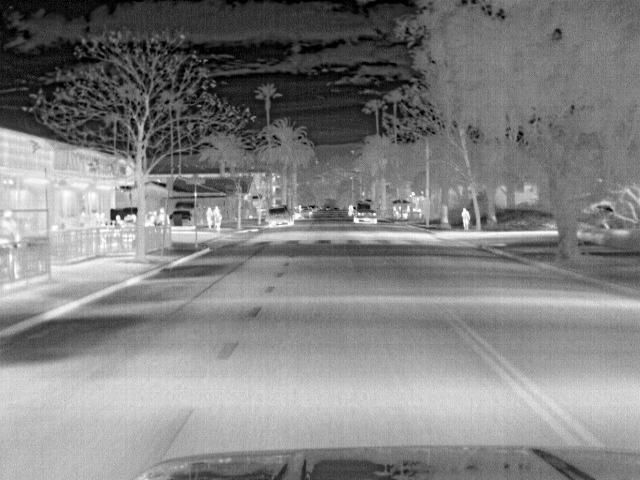car: (352, 199, 381, 227), (266, 205, 296, 227), (170, 208, 193, 225)
person: (1, 208, 23, 240), (457, 206, 472, 232), (210, 204, 222, 236), (203, 206, 215, 232)
